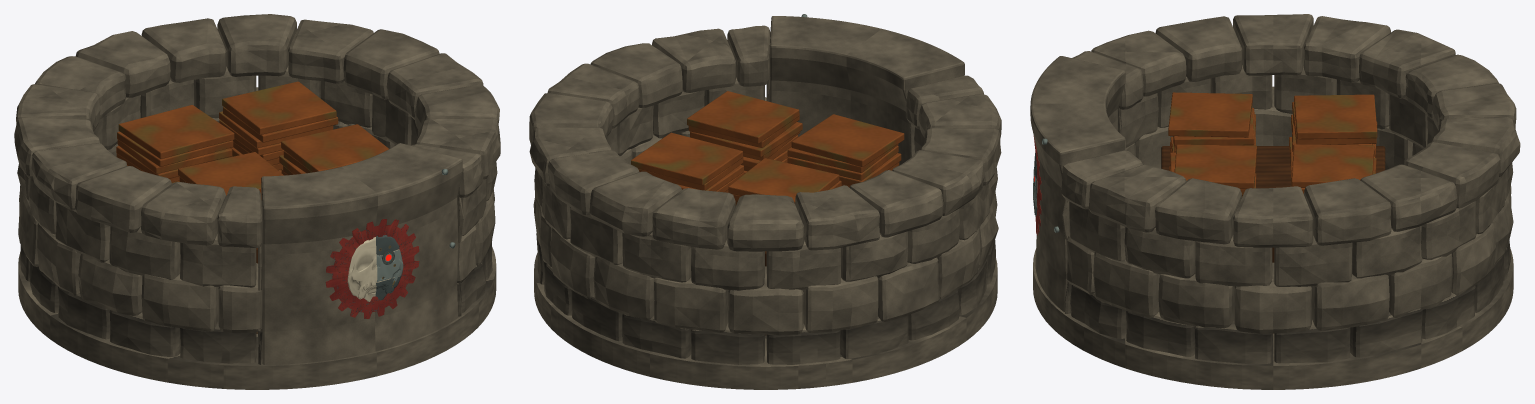
File: filtered-cache-copper-plate-v01.glb
The picture shows the model from 3 angles, left to right: view 1: azimuth 30°, elevation 25°; view 2: azimuth 150°, elevation 25°; view 3: azimuth 270°, elevation 25°; orthographic projection. The views are drawn at different scales.
Visible parts, largest first — view 1: Grounded carved circuit receiving tablet, Continuous grounded rubble footing, Hand-laid course 3 stone 10.0, Hand-laid course 3 stone 02.0, Hand-laid course 3 stone 09.0, Cache centered emblem | Mars emblem | twenty tooth cog surro, Stock | copper-plate plate 2 7, Stock | copper-plate plate 3 7, Hand-laid course 3 stone 03.0, Hand-laid course 3 stone 01.0, Hand-laid course 1 stone 10.0, Hand-laid course 3 stone 00.0 (+42 smaller); view 2: Grounded carved circuit receiving tablet, Continuous grounded rubble footing, Hand-laid course 3 stone 06.0, Hand-laid course 3 stone 04.0, Hand-laid course 3 stone 05.0, Hand-laid course 3 stone 07.0, Hand-laid course 3 stone 03.0, Hand-laid course 3 stone 15.0, Hand-laid course 1 stone 06.0, Stock | copper-plate plate 1 7, Stock | copper-plate plate 0 7, Stock | copper-plate plate 3 7 (+44 smaller); view 3: Continuous grounded rubble footing, Grounded carved circuit receiving tablet, Hand-laid course 3 stone 00.0, Hand-laid course 3 stone 17.0, Hand-laid course 3 stone 16.0, Hand-laid course 3 stone 15.0, Hand-laid course 3 stone 08.0, Hand-laid course 3 stone 01.0, Hand-laid course 3 stone 07.0, Hand-laid course 3 stone 09.0, Hand-laid course 3 stone 06.0, Hand-laid course 1 stone 17.0 (+44 smaller).
Boxes of the visible parts, x1=… form: Grounded carved circuit receiving tablet: x1=261, y1=143, x2=462, y2=364; Continuous grounded rubble footing: x1=18, y1=247, x2=496, y2=389; Hand-laid course 3 stone 10.0: x1=141, y1=182, x2=226, y2=245; Hand-laid course 3 stone 02.0: x1=217, y1=14, x2=296, y2=76; Hand-laid course 3 stone 09.0: x1=75, y1=166, x2=171, y2=232; Cache centered emblem | Mars emblem | twenty tooth cog surro: x1=325, y1=219, x2=419, y2=318; Stock | copper-plate plate 2 7: x1=118, y1=105, x2=234, y2=158; Stock | copper-plate plate 3 7: x1=222, y1=81, x2=336, y2=134; Hand-laid course 3 stone 03.0: x1=141, y1=18, x2=226, y2=82; Hand-laid course 3 stone 01.0: x1=288, y1=19, x2=373, y2=83; Hand-laid course 1 stone 10.0: x1=141, y1=274, x2=218, y2=331; Hand-laid course 3 stone 00.0: x1=343, y1=29, x2=439, y2=99; Grounded carved circuit receiving tablet: x1=769, y1=16, x2=964, y2=165; Continuous grounded rubble footing: x1=534, y1=253, x2=997, y2=389; Hand-laid course 3 stone 06.0: x1=795, y1=185, x2=879, y2=250; Hand-laid course 3 stone 04.0: x1=652, y1=188, x2=735, y2=249; Hand-laid course 3 stone 05.0: x1=727, y1=194, x2=804, y2=251; Hand-laid course 3 stone 07.0: x1=849, y1=170, x2=943, y2=237; Hand-laid course 3 stone 03.0: x1=589, y1=171, x2=681, y2=236; Hand-laid course 3 stone 15.0: x1=652, y1=28, x2=735, y2=92; Hand-laid course 1 stone 06.0: x1=802, y1=276, x2=878, y2=332; Stock | copper-plate plate 1 7: x1=687, y1=91, x2=799, y2=143; Stock | copper-plate plate 0 7: x1=791, y1=114, x2=904, y2=166; Stock | copper-plate plate 3 7: x1=631, y1=132, x2=742, y2=185; Continuous grounded rubble footing: x1=1033, y1=249, x2=1513, y2=389; Grounded carved circuit receiving tablet: x1=1030, y1=56, x2=1125, y2=311; Hand-laid course 3 stone 00.0: x1=1304, y1=178, x2=1391, y2=245; Hand-laid course 3 stone 17.0: x1=1233, y1=186, x2=1313, y2=247; Hand-laid course 3 stone 16.0: x1=1155, y1=178, x2=1241, y2=244; Hand-laid course 3 stone 15.0: x1=1088, y1=164, x2=1186, y2=232; Hand-laid course 3 stone 08.0: x1=1233, y1=14, x2=1313, y2=75; Hand-laid course 3 stone 01.0: x1=1360, y1=164, x2=1457, y2=231; Hand-laid course 3 stone 07.0: x1=1304, y1=16, x2=1390, y2=82; Hand-laid course 3 stone 09.0: x1=1155, y1=16, x2=1242, y2=82; Hand-laid course 3 stone 06.0: x1=1359, y1=29, x2=1455, y2=98; Hand-laid course 1 stone 17.0: x1=1234, y1=262, x2=1311, y2=333.
Bounding box in the file's own units: 1.96 × 0.8159 × 1.95.
Materials: 13 (12 with a texture image).
